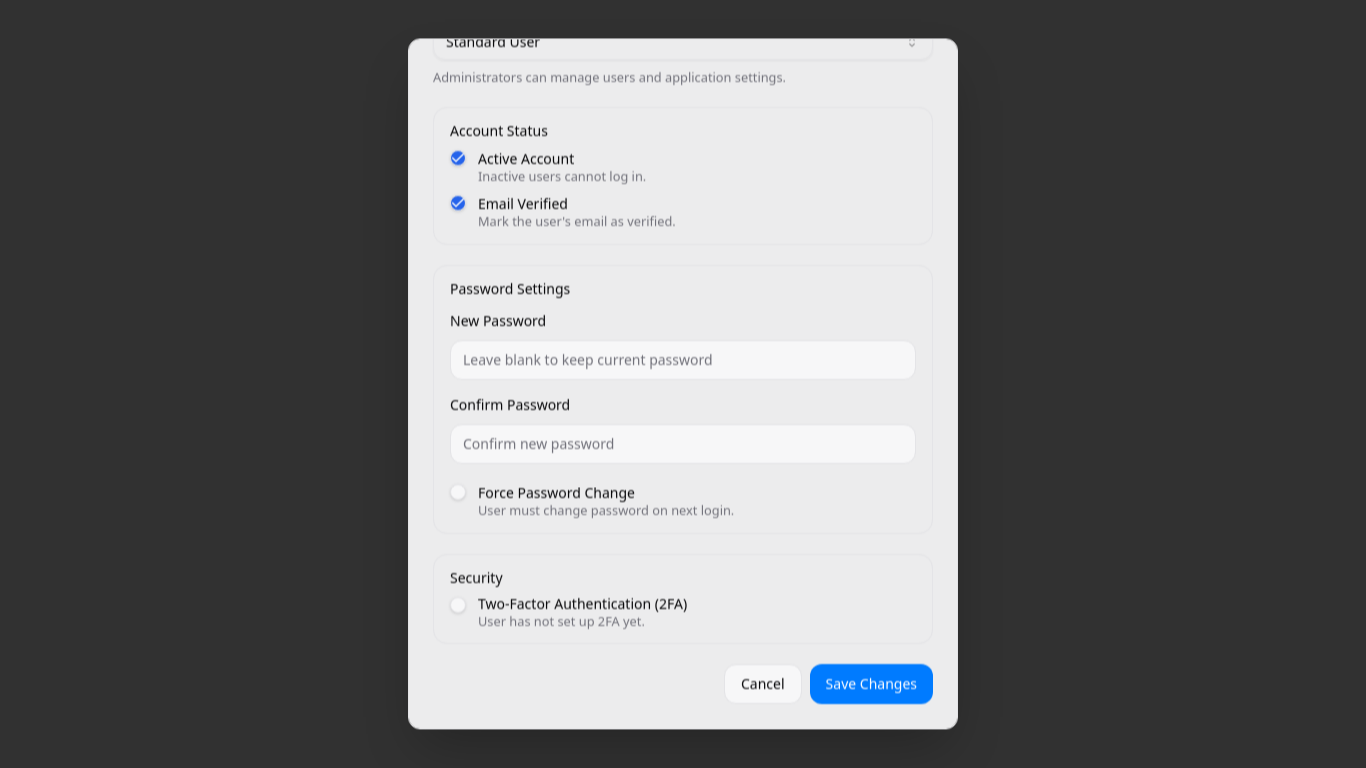
Test: EditUserDialog › shows loading state when mutation is pending
(page scrolled)
Click the button "Save Changes": (871, 685) [810, 665, 933, 705]
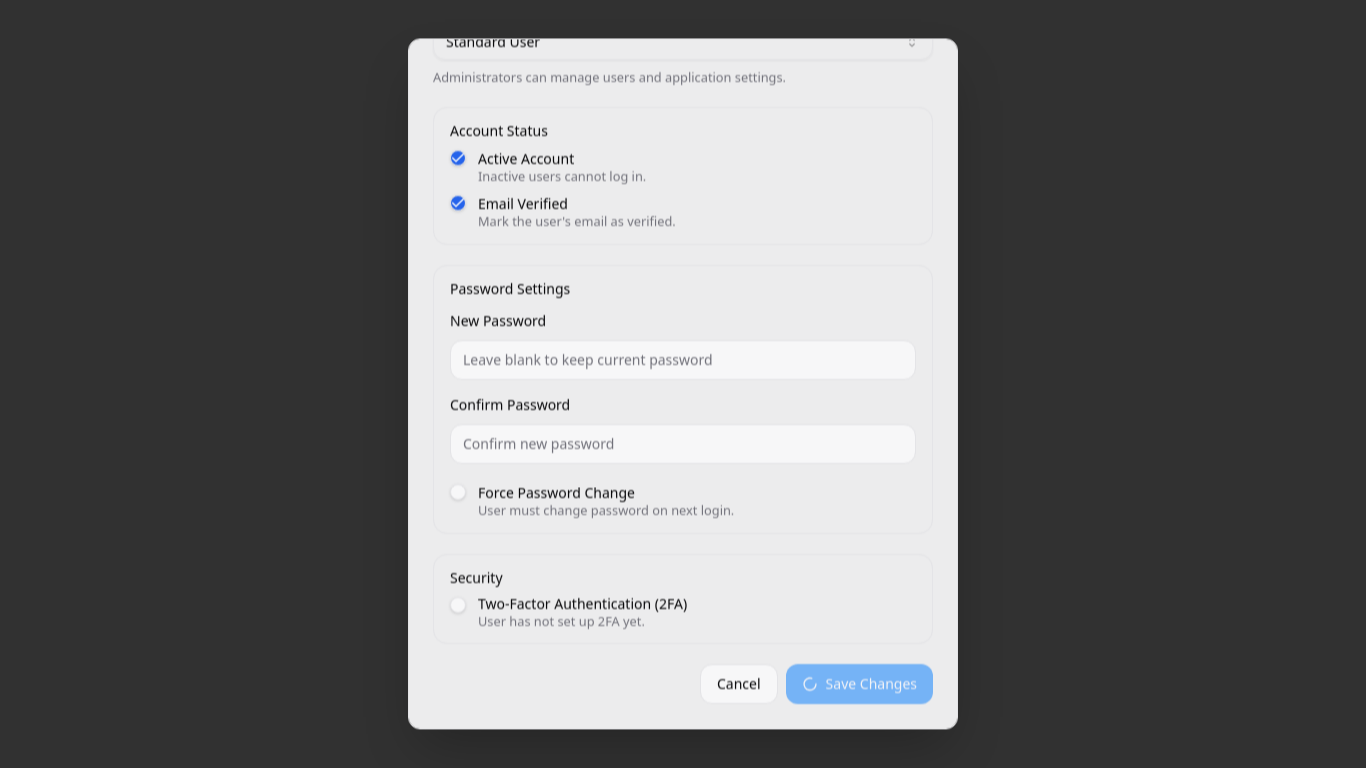
Now the icon with class "animate-spin" is shown, box [802, 677, 818, 693]
Now the button "Save Changes" is disabled, box [786, 665, 933, 705]
